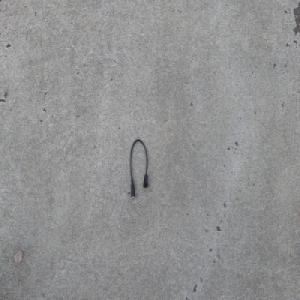Wire: (129, 137, 148, 198)
